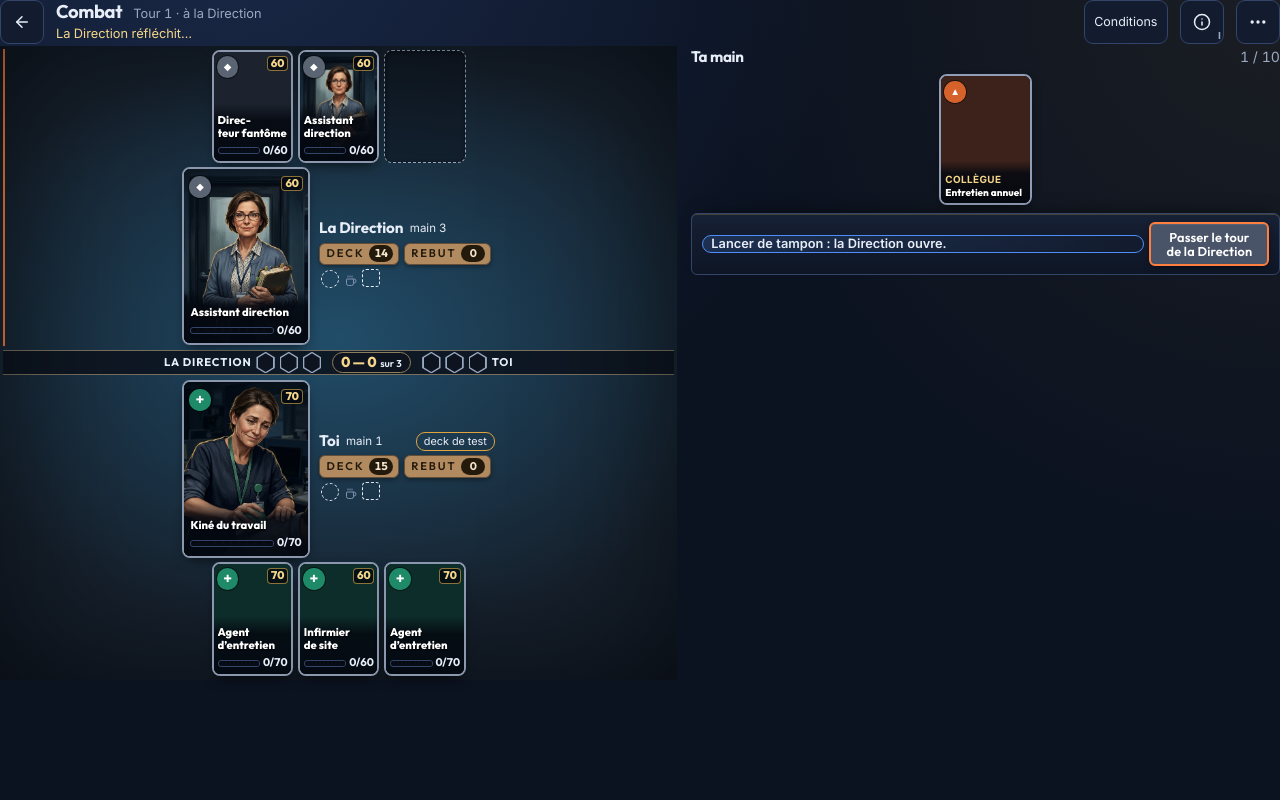
it: Battle — la trace d’un combat ne bloque pas la fin de partie (#173) › un rejet réseau laisse l’écran de fin à l’écran, et l’envoi n’a reçu que le combat
The width and height of the screenshot is (1280, 800).
Click the button named "Menu du combat": {"x": 1258, "y": 22} [1236,0,1279,44]
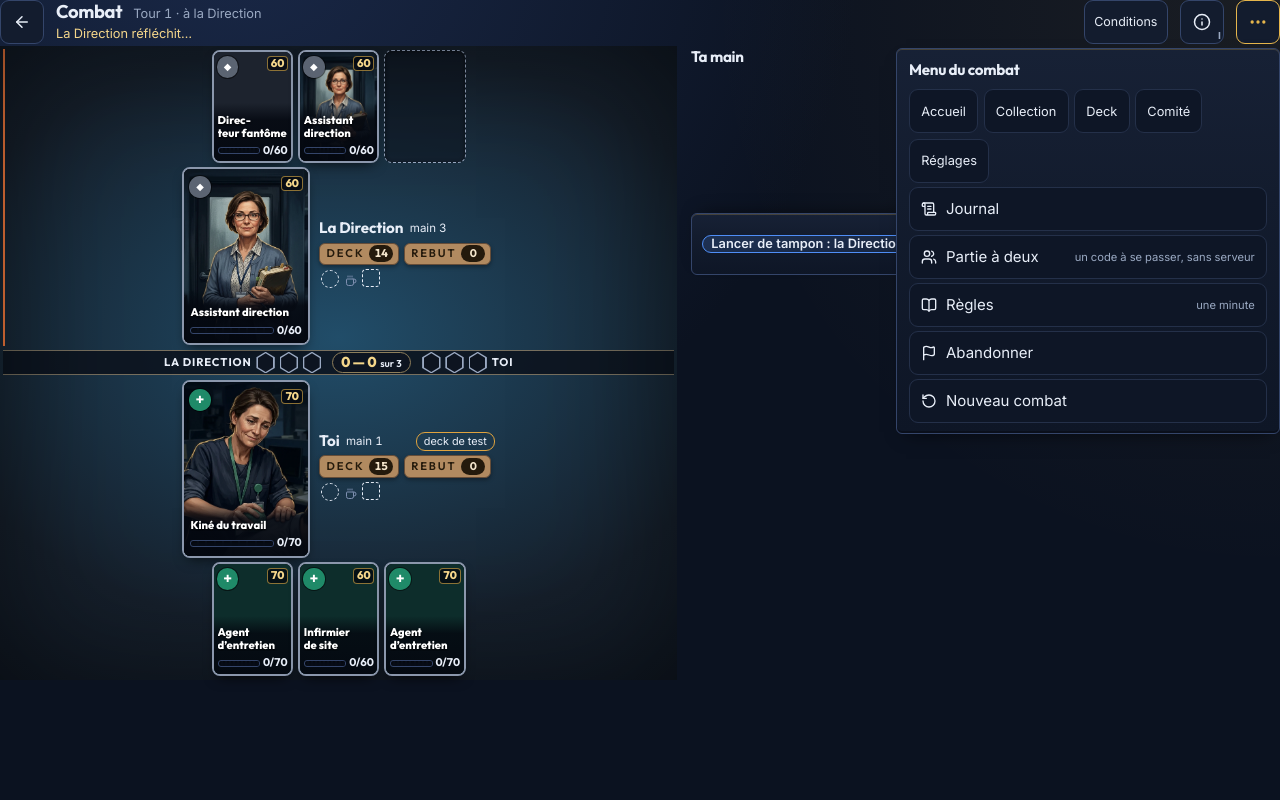
Click the button "Abandonner": {"x": 990, "y": 352} [909,331,1267,375]
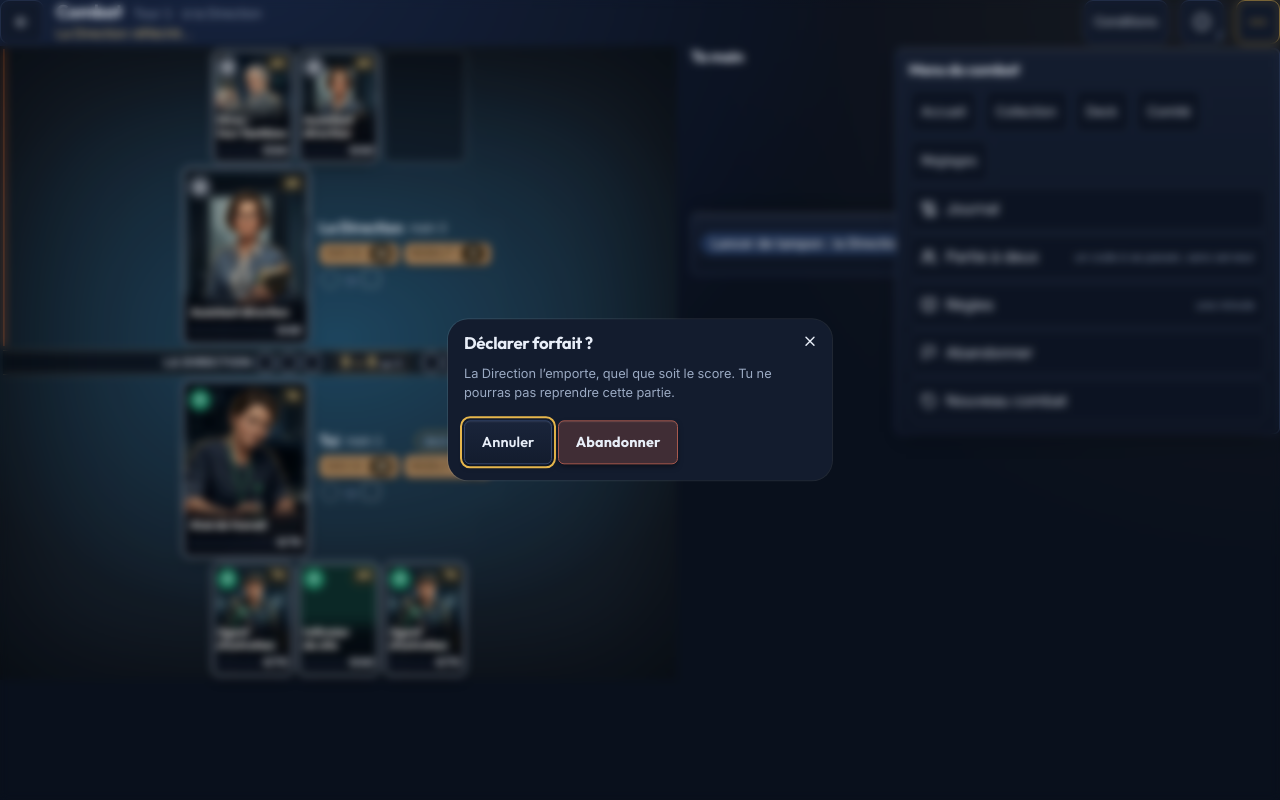
Click the button "Abandonner": {"x": 618, "y": 443} [558,421,678,465]
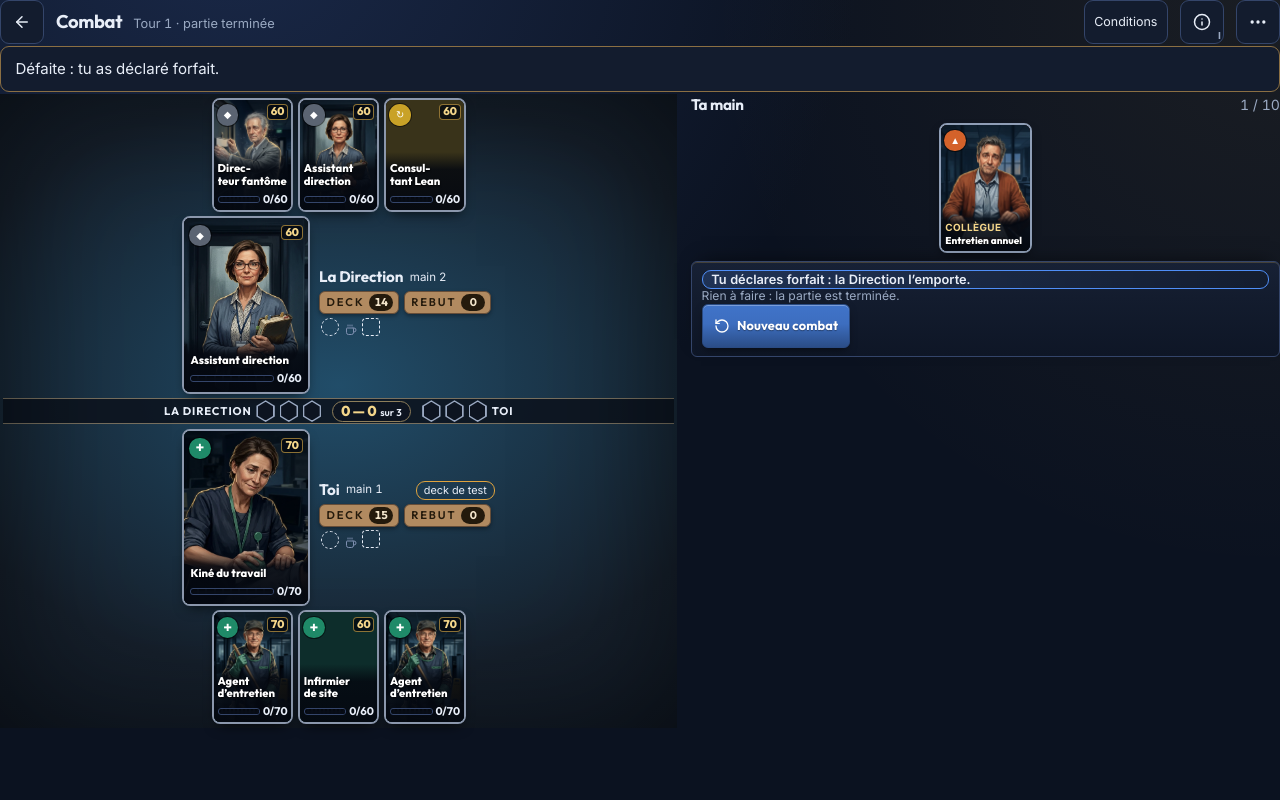
Result: the text "Tour 1 · partie terminée" is shown at [133,14,275,33]
